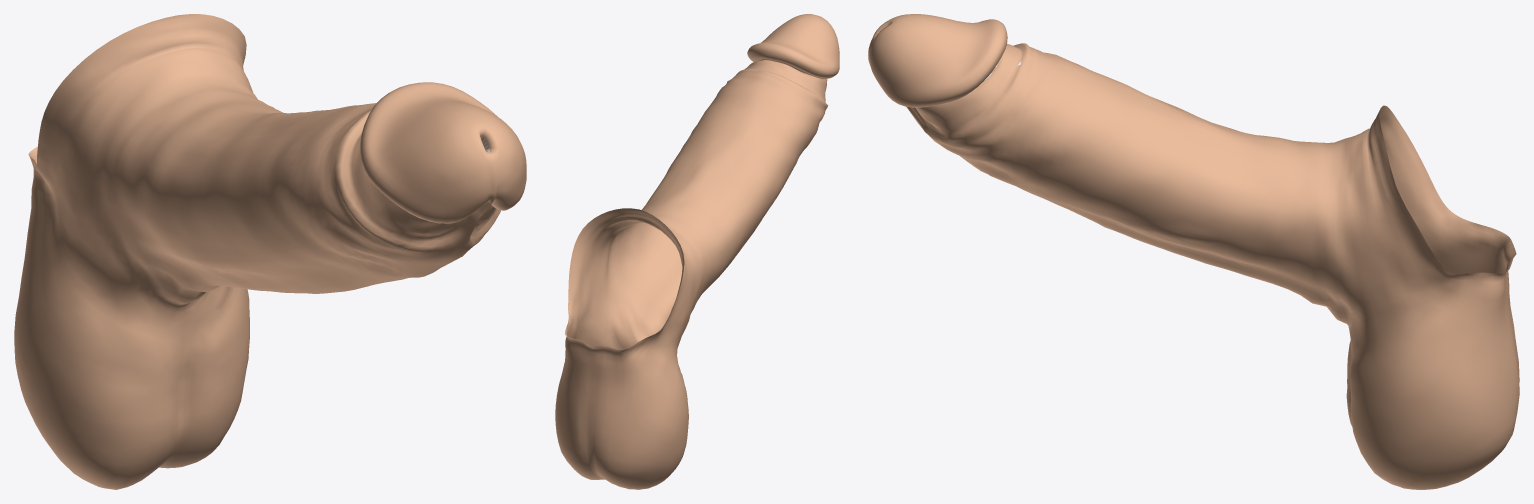
3 renders of one model, left to right at view 1: azimuth 30°, elevation 25°; view 2: azimuth 150°, elevation 25°; view 3: azimuth 270°, elevation 25°, orthographic. The views are drawn at different scales.
Visible parts, largest first — view 1: Penis_Human_0; view 2: Penis_Human_0; view 3: Penis_Human_0.
Part boxes in pixels (x1,y1,x2,y2): Penis_Human_0: (14, 14, 526, 489); Penis_Human_0: (555, 14, 839, 489); Penis_Human_0: (868, 14, 1519, 489).
Bounding box in the file's own units: 0.0619 × 0.1721 × 0.2209.
